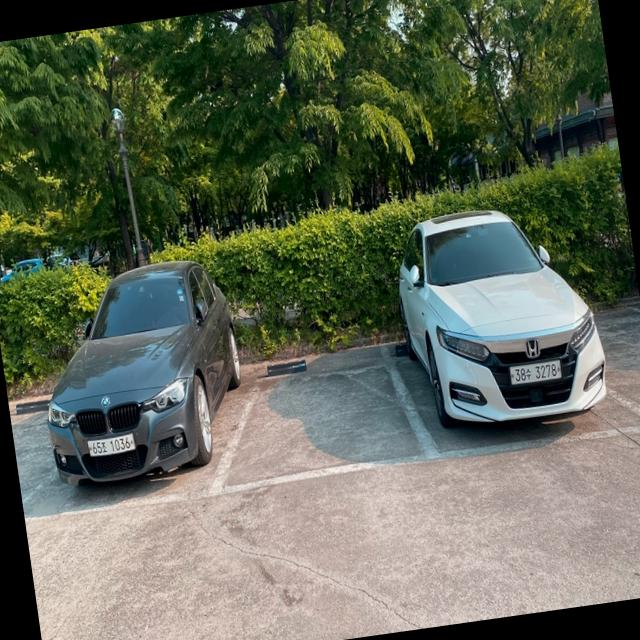car: (25, 248, 258, 487), (392, 194, 612, 438)
free: (202, 363, 455, 502)
